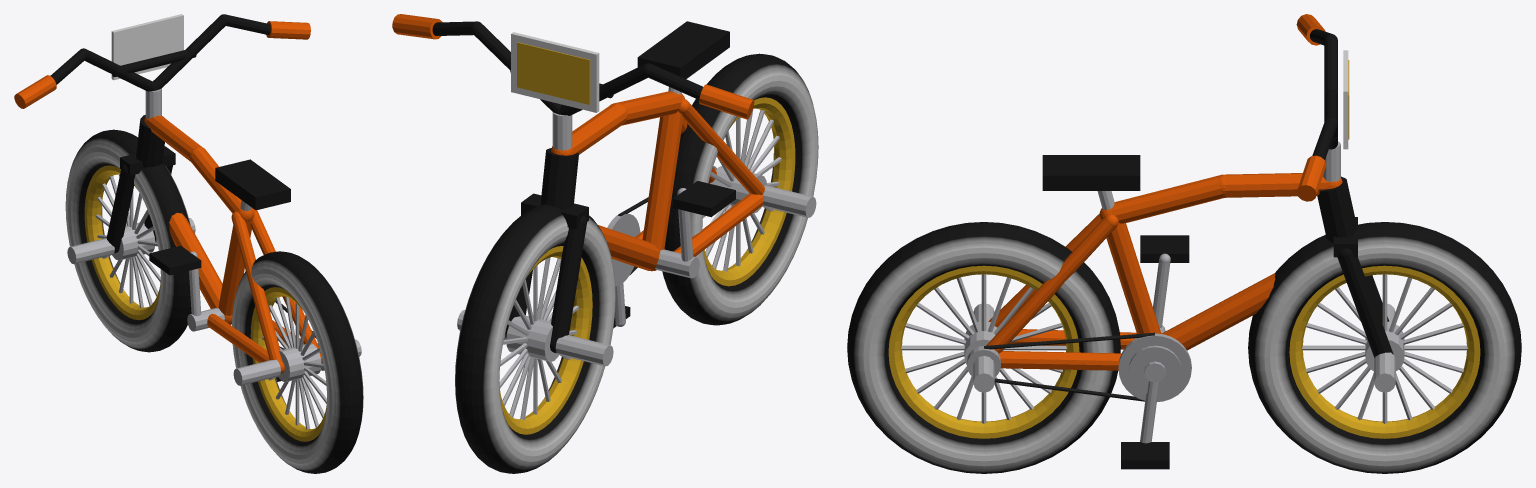
File: bike-2.glb
The picture shows the model from 3 angles, left to right: view 1: azimuth 30°, elevation 25°; view 2: azimuth 150°, elevation 25°; view 3: azimuth 270°, elevation 25°; orthographic projection. The views are drawn at different scales.
Visible parts, largest first — view 1: wheel_back, wheel_front, frame, handlebars, seat, drivetrain, fork, pegs; view 2: wheel_front, wheel_back, frame, handlebars, drivetrain, fork, seat, pegs; view 3: wheel_front, wheel_back, frame, drivetrain, handlebars, seat, fork, pegs.
Part boxes in pixels (x1=…): wheel_back: x1=232, y1=251, x2=363, y2=473; wheel_front: x1=65, y1=129, x2=191, y2=352; frame: x1=136, y1=115, x2=322, y2=373; handlebars: x1=14, y1=14, x2=310, y2=118; seat: x1=215, y1=159, x2=290, y2=210; drivetrain: x1=149, y1=245, x2=324, y2=381; fork: x1=106, y1=146, x2=175, y2=253; pegs: x1=67, y1=218, x2=361, y2=385; wheel_front: x1=455, y1=204, x2=615, y2=473; wheel_back: x1=662, y1=53, x2=818, y2=325; frame: x1=541, y1=91, x2=764, y2=271; handlebars: x1=392, y1=14, x2=754, y2=150; drivetrain: x1=607, y1=166, x2=735, y2=328; fork: x1=505, y1=193, x2=588, y2=353; seat: x1=637, y1=21, x2=729, y2=94; pegs: x1=457, y1=185, x2=816, y2=366; wheel_front: x1=1248, y1=222, x2=1521, y2=473; wheel_back: x1=847, y1=222, x2=1120, y2=473; frame: x1=986, y1=173, x2=1357, y2=370; drivetrain: x1=967, y1=235, x2=1191, y2=469; handlebars: x1=1296, y1=14, x2=1349, y2=201; seat: x1=1042, y1=155, x2=1140, y2=209; fork: x1=1333, y1=217, x2=1393, y2=358; pegs: x1=973, y1=303, x2=1395, y2=392.
Bounding box in the file's own units: 0.9635 × 1.05 × 1.6.
